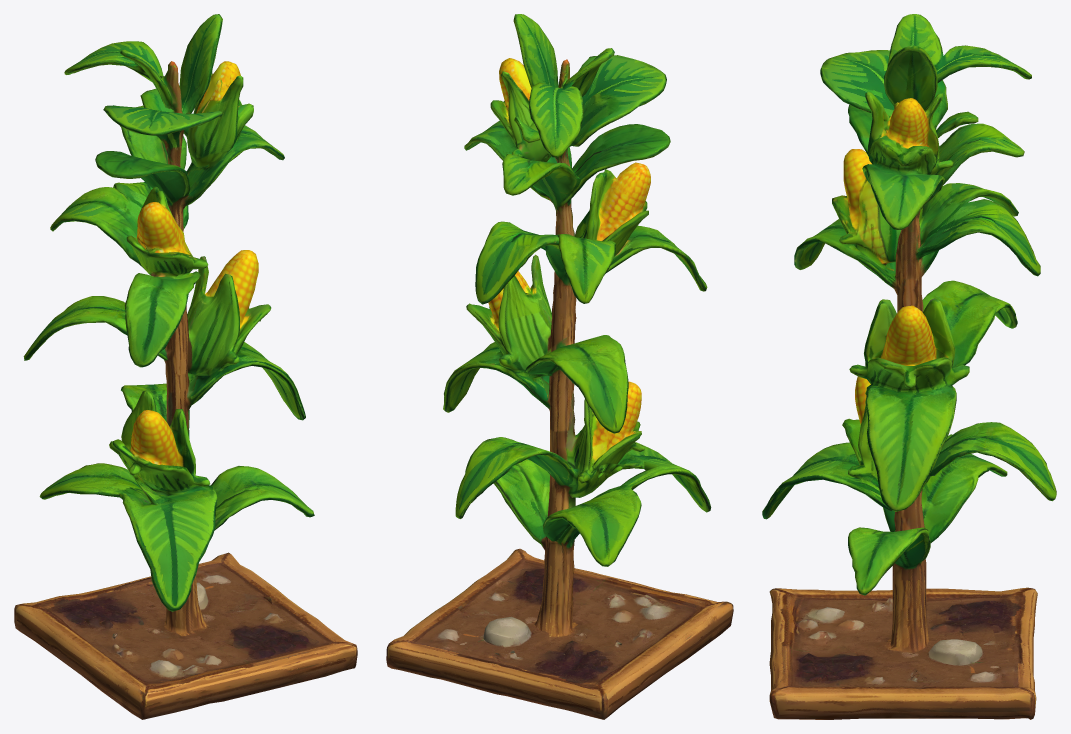
Rendered from corn.glb.
The picture shows the model from 3 angles, left to right: view 1: azimuth 30°, elevation 25°; view 2: azimuth 150°, elevation 25°; view 3: azimuth 270°, elevation 25°; orthographic projection. The views are drawn at different scales.
Bounding box in the file's own units: 0.7241 × 1.91 × 0.7945.
Materials: 1 (1 with a texture image).
